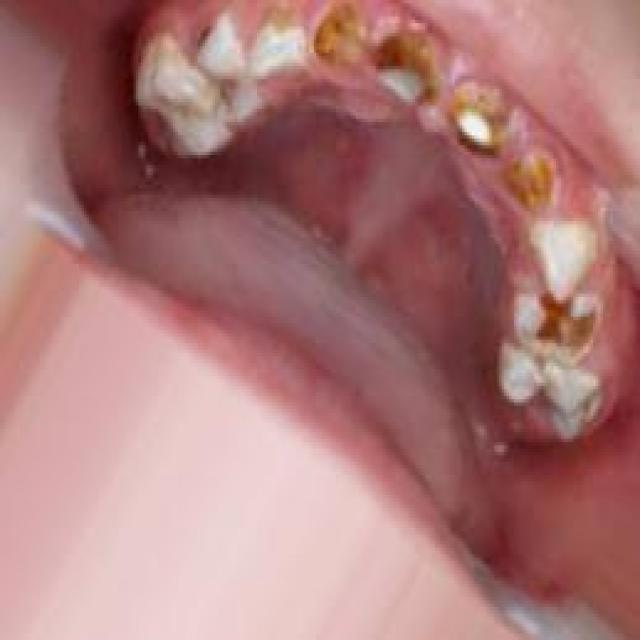caries: (514, 274, 604, 366), (366, 22, 439, 115), (440, 72, 514, 158), (496, 146, 566, 219), (303, 0, 366, 77), (251, 0, 310, 65), (192, 6, 237, 68)
